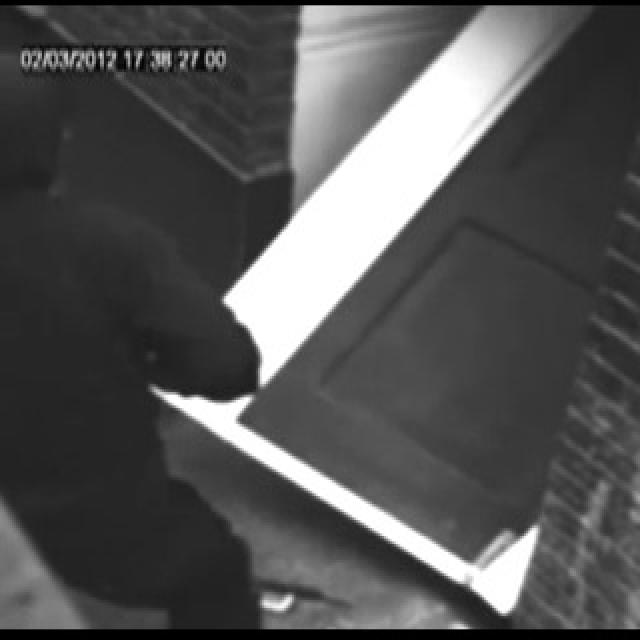thief: (0, 41, 109, 223)
